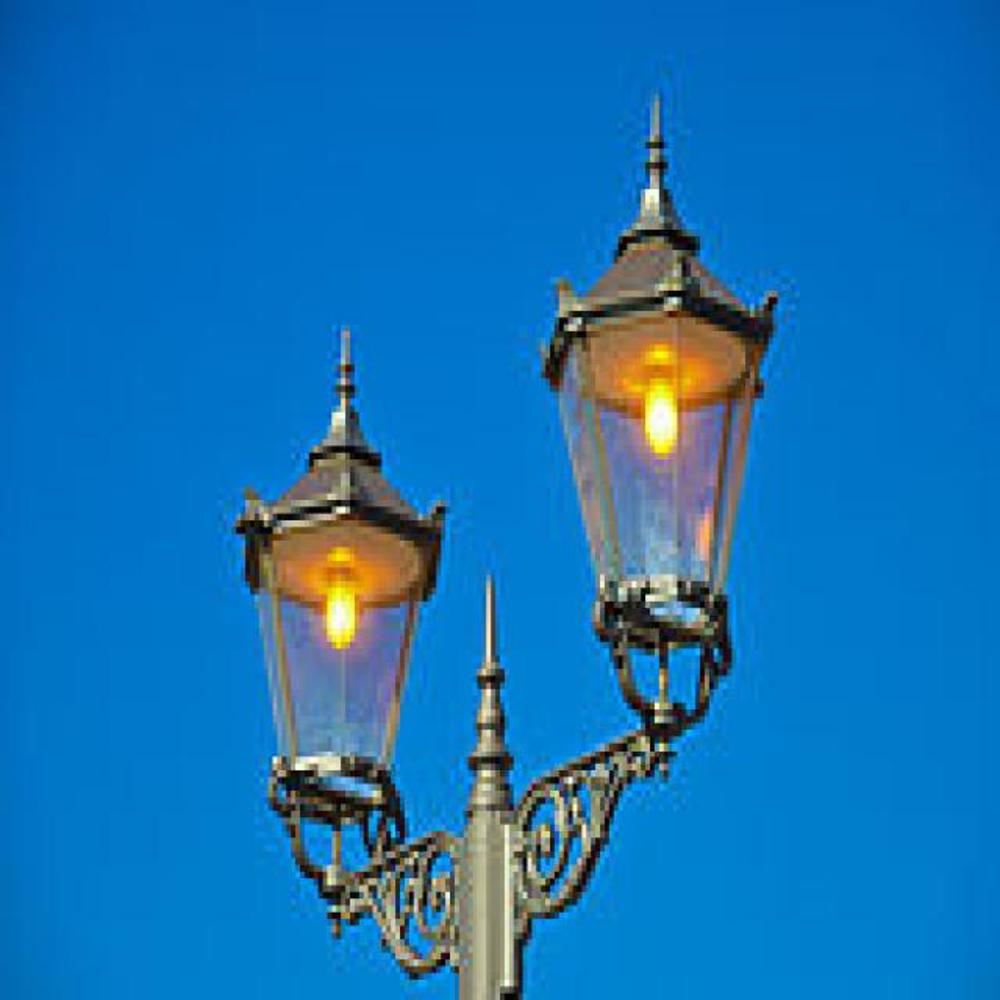shelf: (207, 55, 784, 1000)
